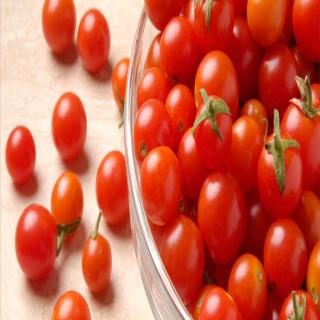Tomat: (257, 109, 304, 219), (281, 75, 320, 190), (193, 88, 234, 170), (82, 210, 113, 293)
